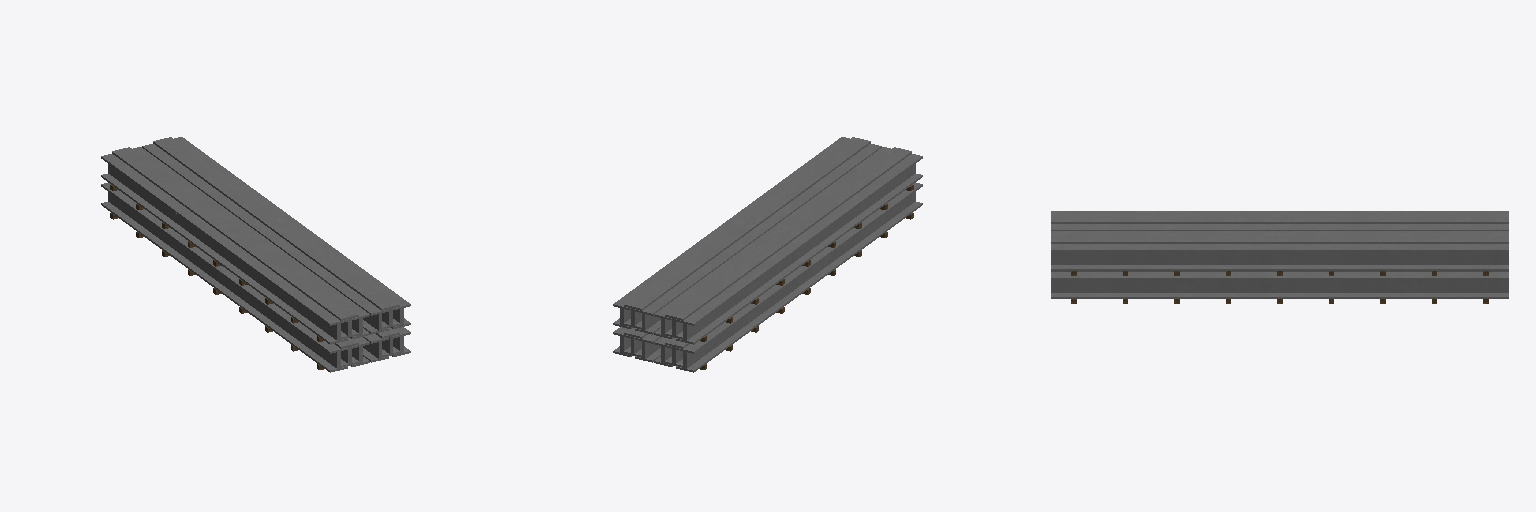
The picture shows the model from 3 angles: view 1: azimuth 30°, elevation 25°; view 2: azimuth 150°, elevation 25°; view 3: azimuth 270°, elevation 25°; orthographic projection.
Parts seen in each view (by area): view 1: Beam_Stack; view 2: Beam_Stack; view 3: Beam_Stack.
Boxes of the visible parts, x1=… form: Beam_Stack: x1=101, y1=137, x2=410, y2=372; Beam_Stack: x1=613, y1=137, x2=922, y2=372; Beam_Stack: x1=1051, y1=211, x2=1508, y2=303.
Size of the model in its own units: 1.92 by 1.25 by 9.26.
Materials: 1 (1 with a texture image).